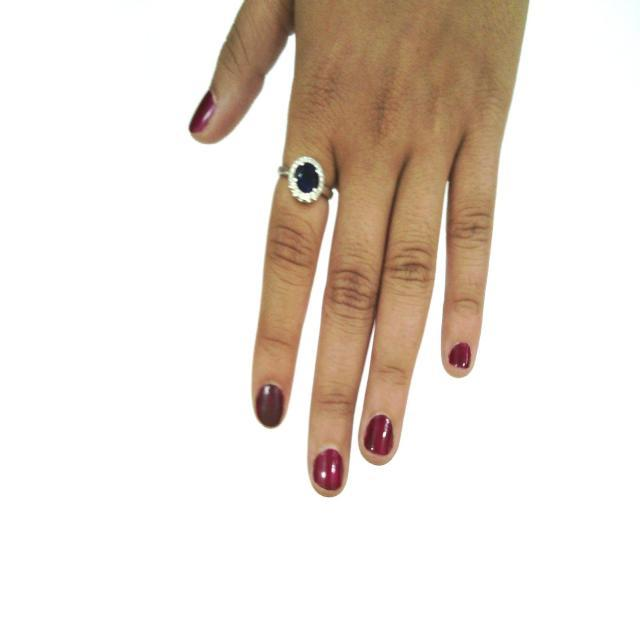Fingernail: (315, 450, 343, 492), (257, 385, 283, 429), (365, 416, 392, 456), (190, 92, 215, 132), (450, 344, 470, 369)
